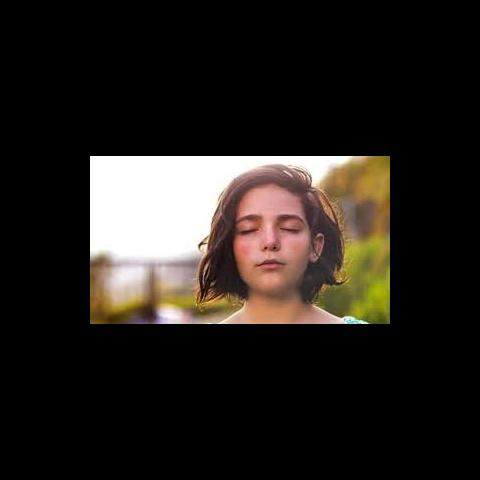closed: (228, 212, 310, 244)
